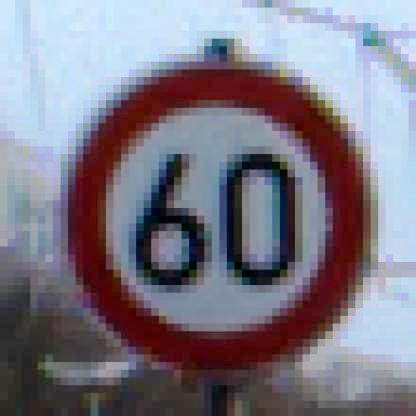Speed Limit -60-: (59, 57, 384, 378)
